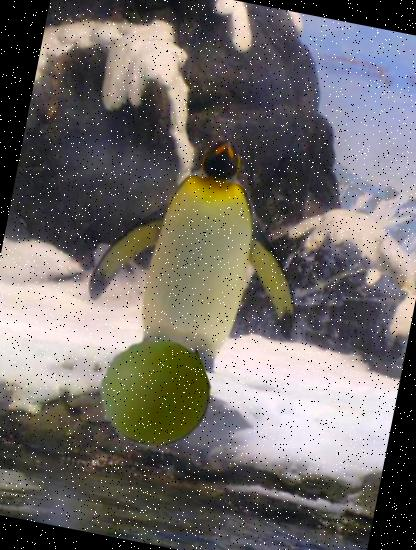Grape: (89, 328, 219, 458)
